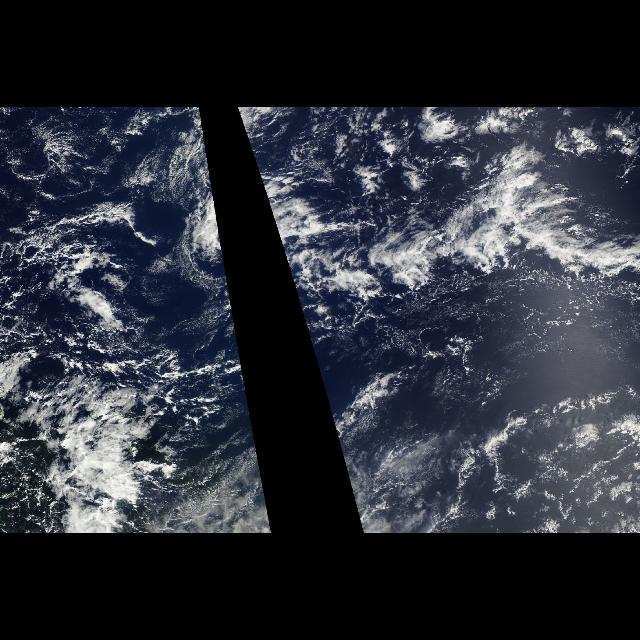Fish: (338, 164, 640, 324)
Sugar: (5, 112, 186, 236)
